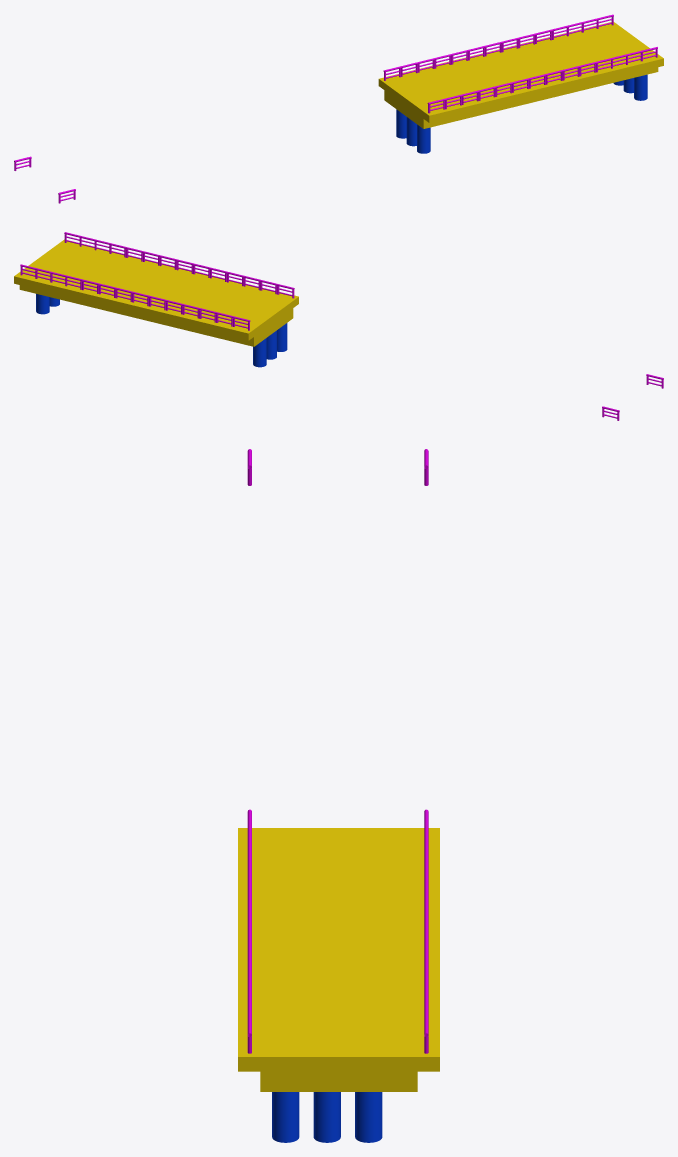
Rendered from bridge_low3.fbx.
The picture shows the model from 3 angles, top to bottom: view 1: azimuth 30°, elevation 25°; view 2: azimuth 150°, elevation 25°; view 3: azimuth 270°, elevation 25°; orthographic projection. The views are drawn at different scales.
Parts seen in each view (by area): view 1: pCube2, pCylinder3, pCylinder15; view 2: pCube2, pCylinder1; view 3: pCube2, pCylinder15, pCylinder14, pCylinder16.
Part boxes in pixels (x1,y1,x2,y2): pCube2: (378,22,663,128); pCylinder3: (417,124,430,153); pCylinder15: (634,74,647,100); pCube2: (14,239,298,346); pCylinder1: (253,338,266,367); pCube2: (238,828,439,1091); pCylinder15: (272,1092,299,1142); pCylinder14: (355,1092,382,1142); pCylinder16: (313,1092,340,1142).
Bounding box in the file's own units: 6387 × 565 × 928.
